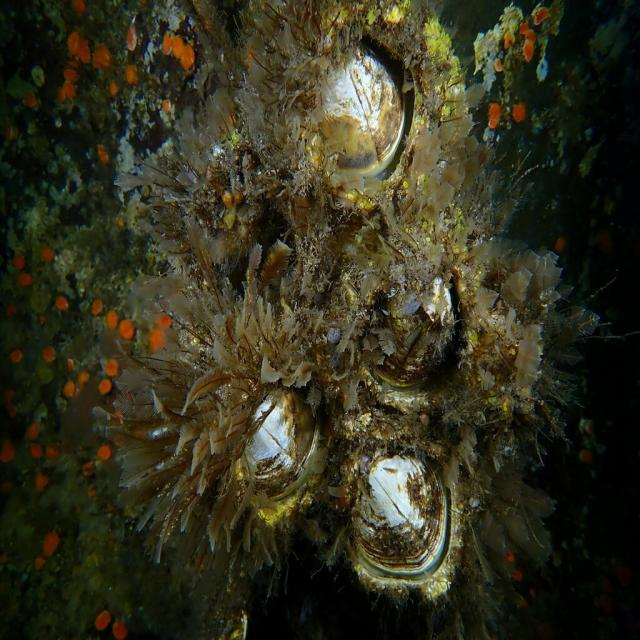barnacles: (108, 284, 334, 577), (215, 0, 482, 242), (333, 226, 515, 434), (340, 447, 495, 628)
